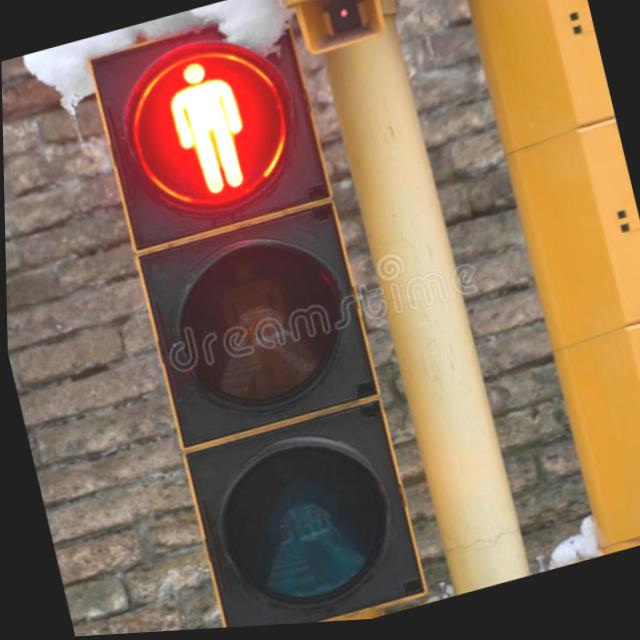red_light: (91, 12, 316, 241)
